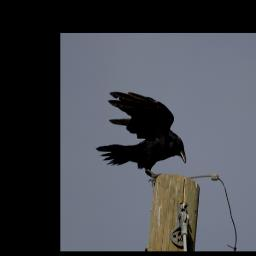Crow: (94, 90, 187, 185)
